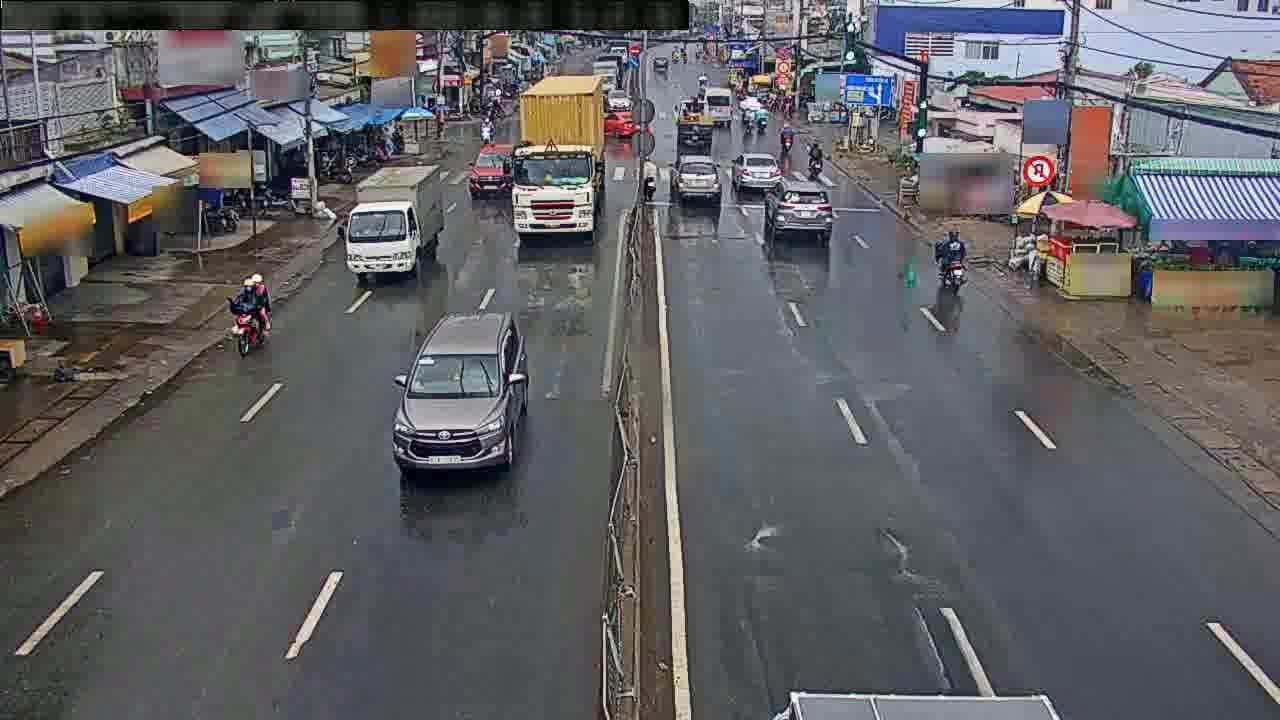8: (508, 85, 614, 234), (345, 159, 441, 272)
container: (396, 296, 520, 483), (761, 177, 833, 246), (468, 141, 520, 199), (670, 149, 721, 202), (731, 149, 782, 192), (603, 87, 633, 110)
motorbike: (229, 269, 270, 355), (928, 226, 972, 289), (638, 157, 660, 202), (807, 140, 821, 183)
